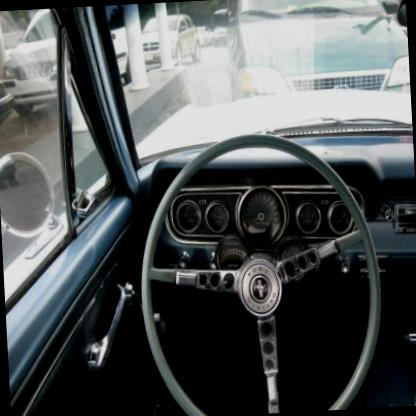car: (0, 0, 415, 415), (221, 0, 410, 100), (0, 4, 129, 113), (136, 8, 200, 66), (0, 48, 16, 133), (196, 24, 212, 46), (212, 25, 226, 40)
